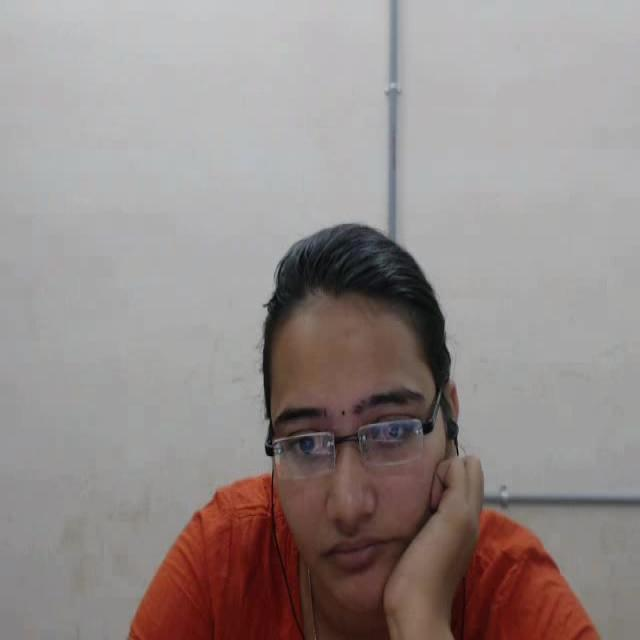Bored: (227, 207, 508, 623)
